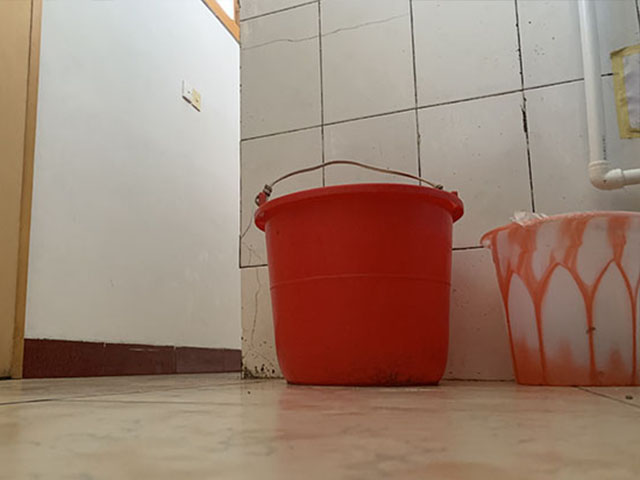trashcan: (481, 209, 640, 389)
